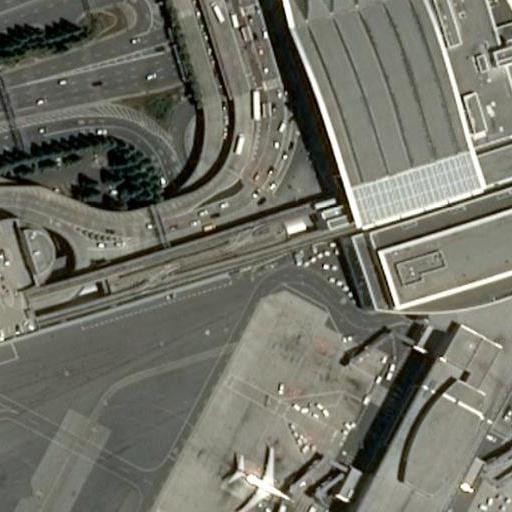Aircraft: (216, 442, 301, 507), (499, 407, 512, 509)
